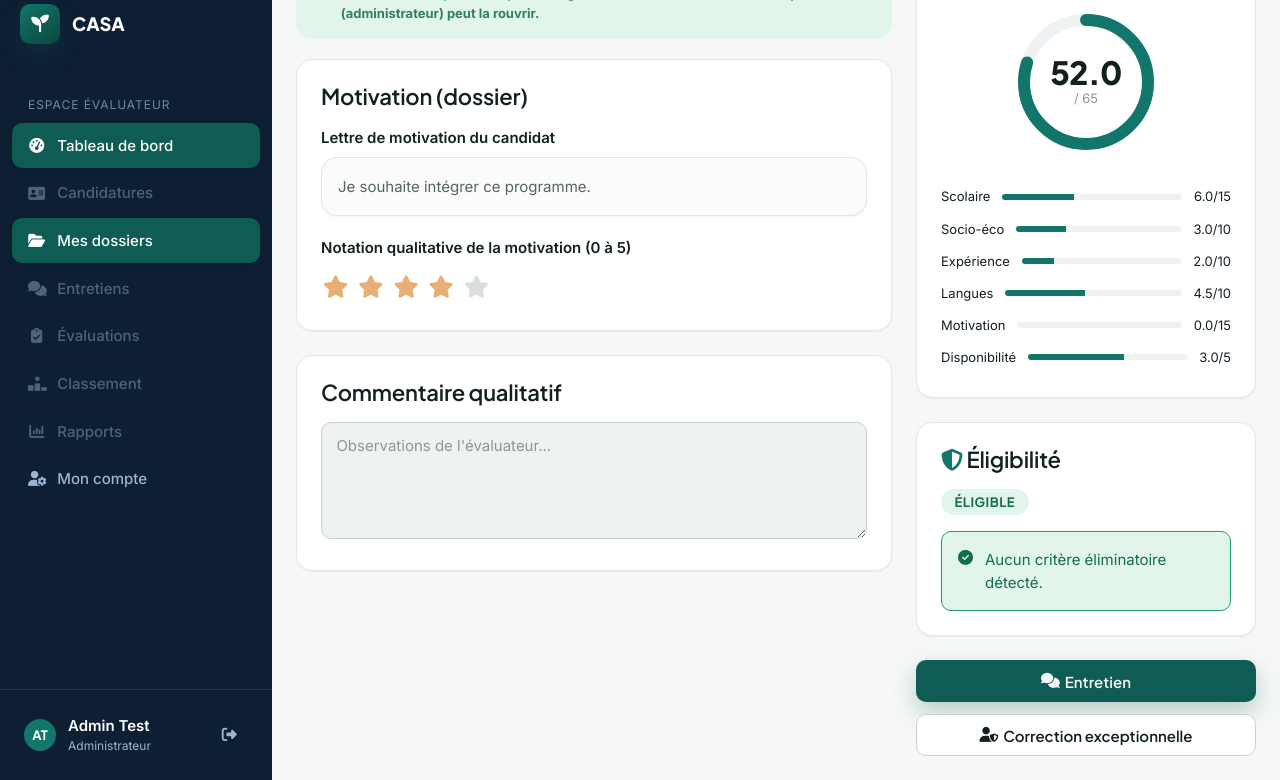
EvaluationDossier — correction exceptionnelle (Lot 8d-3, administrateur uniquement) › admin + verrouillée -> bannière "vous rouvrez une évaluation validée", motif obligatoire, POST puis re-GET (dossier + évaluation)
The image size is (1280, 780).
(page scrolled)
Click the button "Correction exceptionnelle" at (1086, 735), box [916,714,1256,756]
(page scrolled)
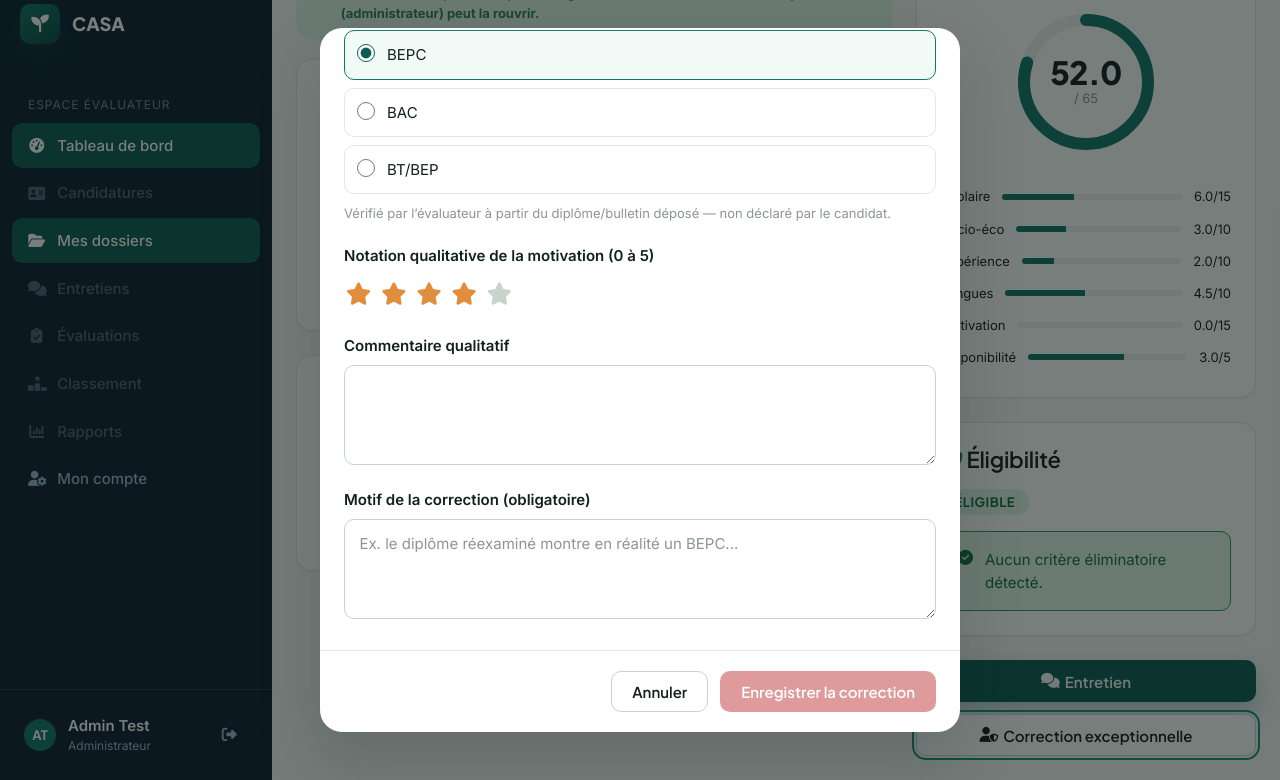
Result: the button "Enregistrer la correction" is disabled at [720,671,936,712]
Type "ok" into the text box labelled "Motif de la correction (obligatoire)" at (640, 569), box [344,519,936,619]
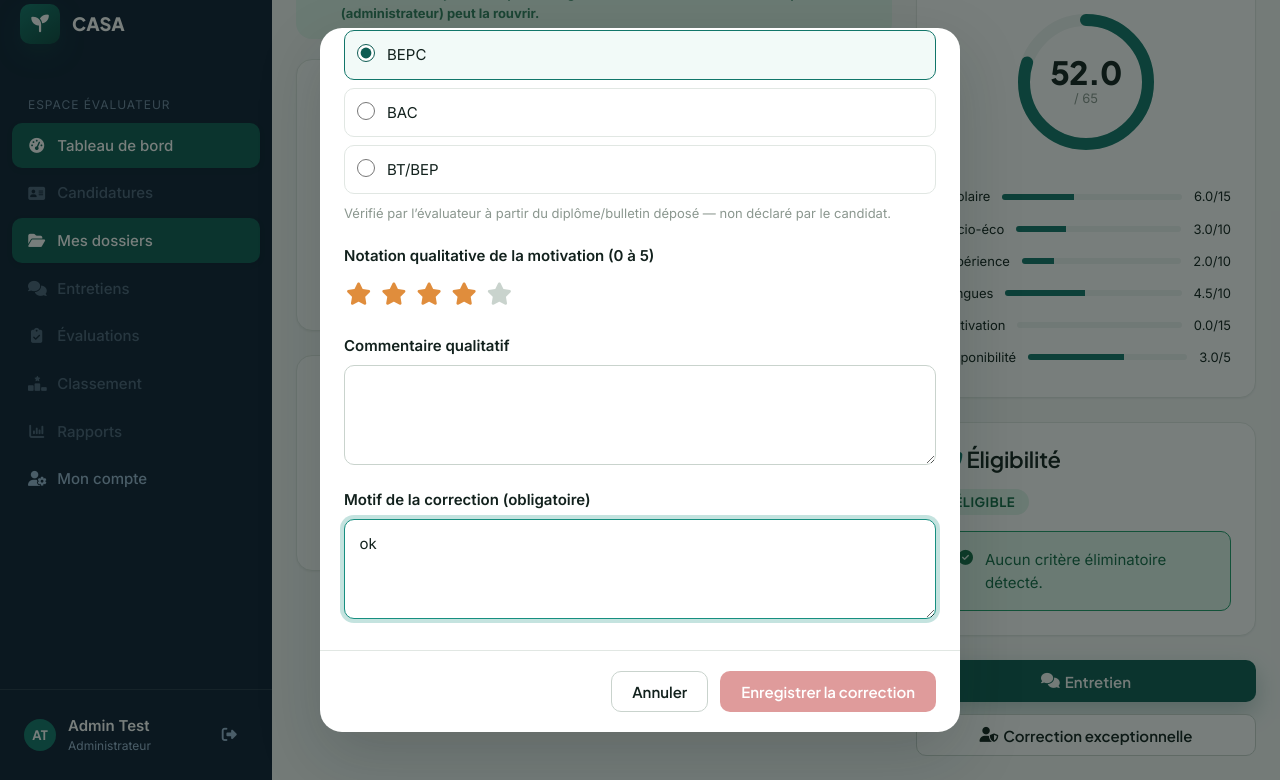
Result: the button "Enregistrer la correction" is disabled at [720,671,936,712]
Type " diplôme réexaminé" into the text box labelled "Motif de la correction (obligatoire)" at (640, 569), box [344,519,936,619]
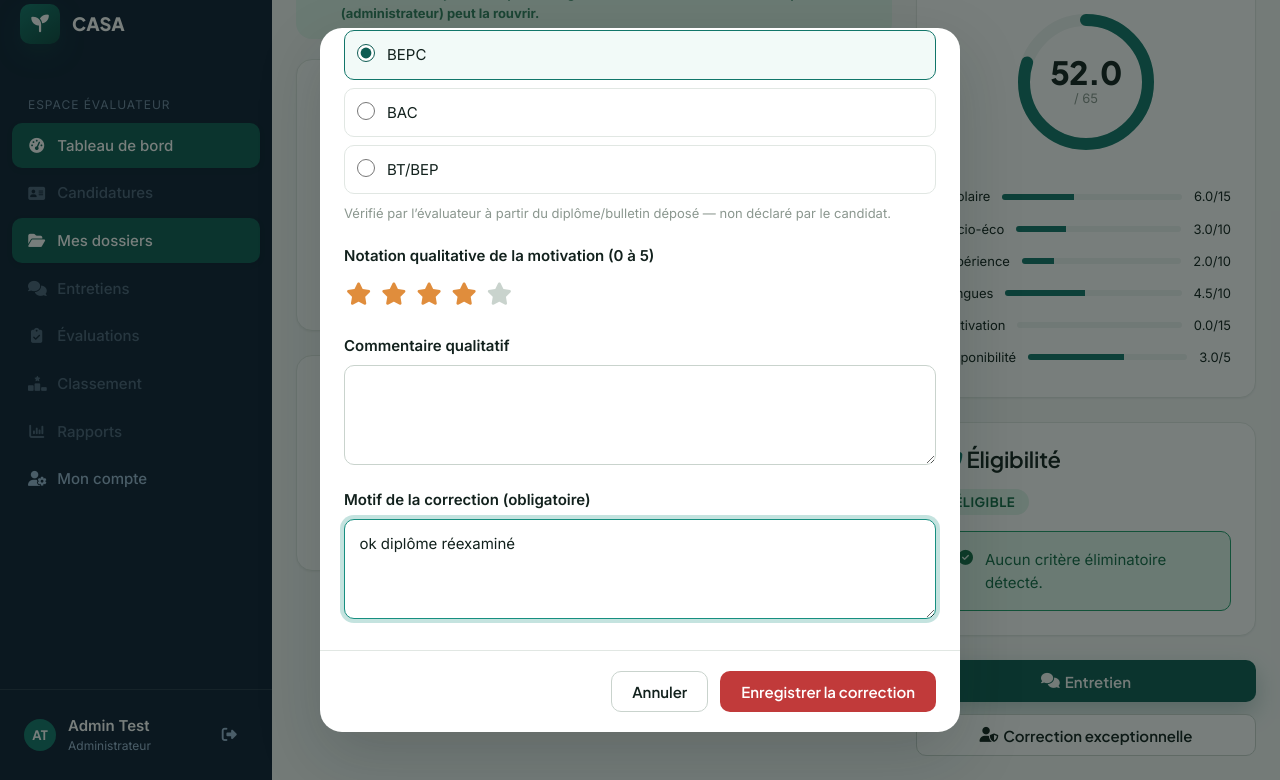
Result: the button "Enregistrer la correction" is enabled
Click the button "Enregistrer la correction" at (828, 692), box [720,671,936,712]
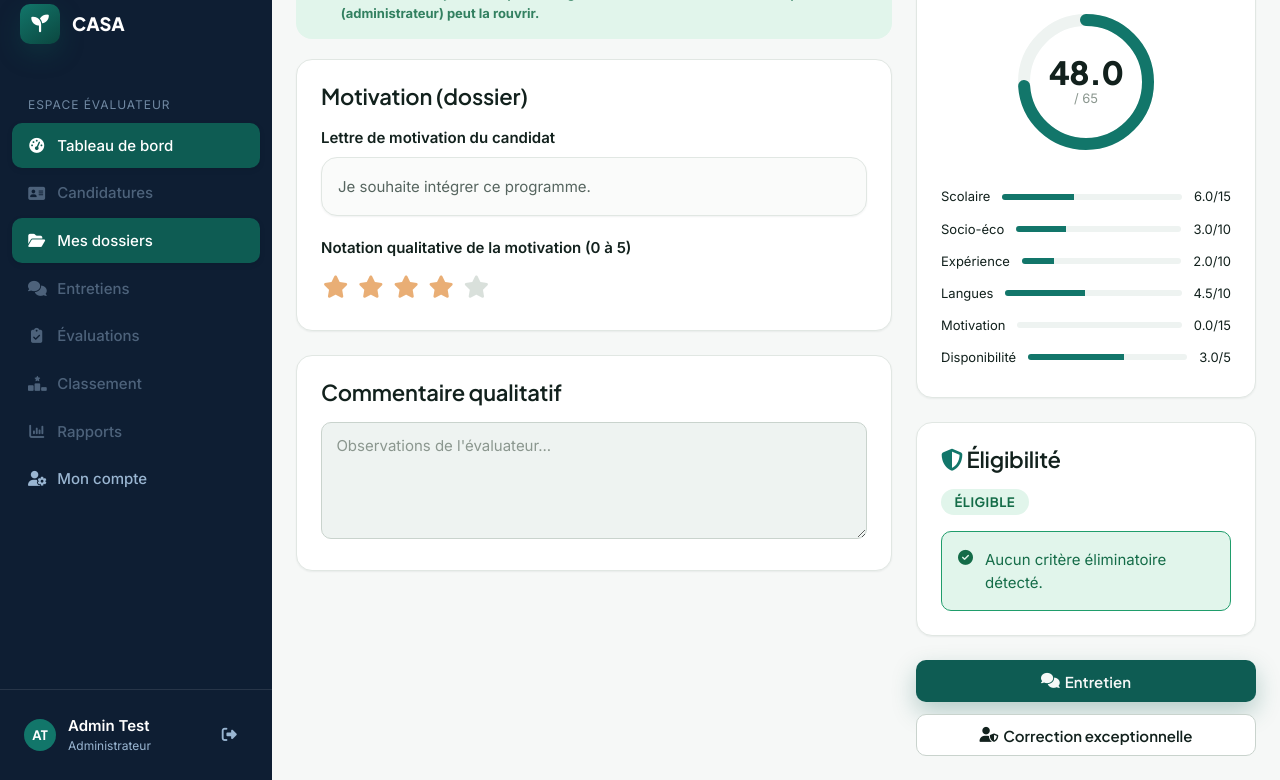
Result: the text "48.0" is shown at [1049,56,1123,88]
